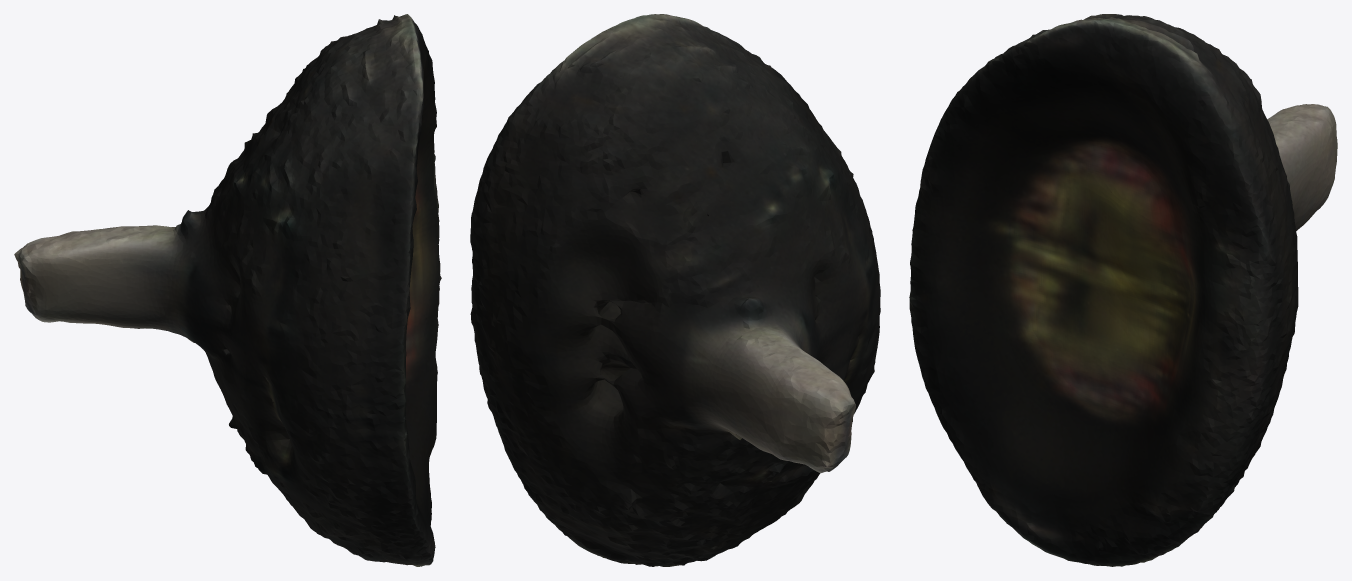
Rendered from IMG_SEG_30.glb.
3 renders of one model, left to right at view 1: azimuth 30°, elevation 25°; view 2: azimuth 150°, elevation 25°; view 3: azimuth 270°, elevation 25°, orthographic. The views are drawn at different scales.
Bounding box in the file's own units: 0.8439 × 1.08 × 0.7649.
Materials: 1 (1 with a texture image).
